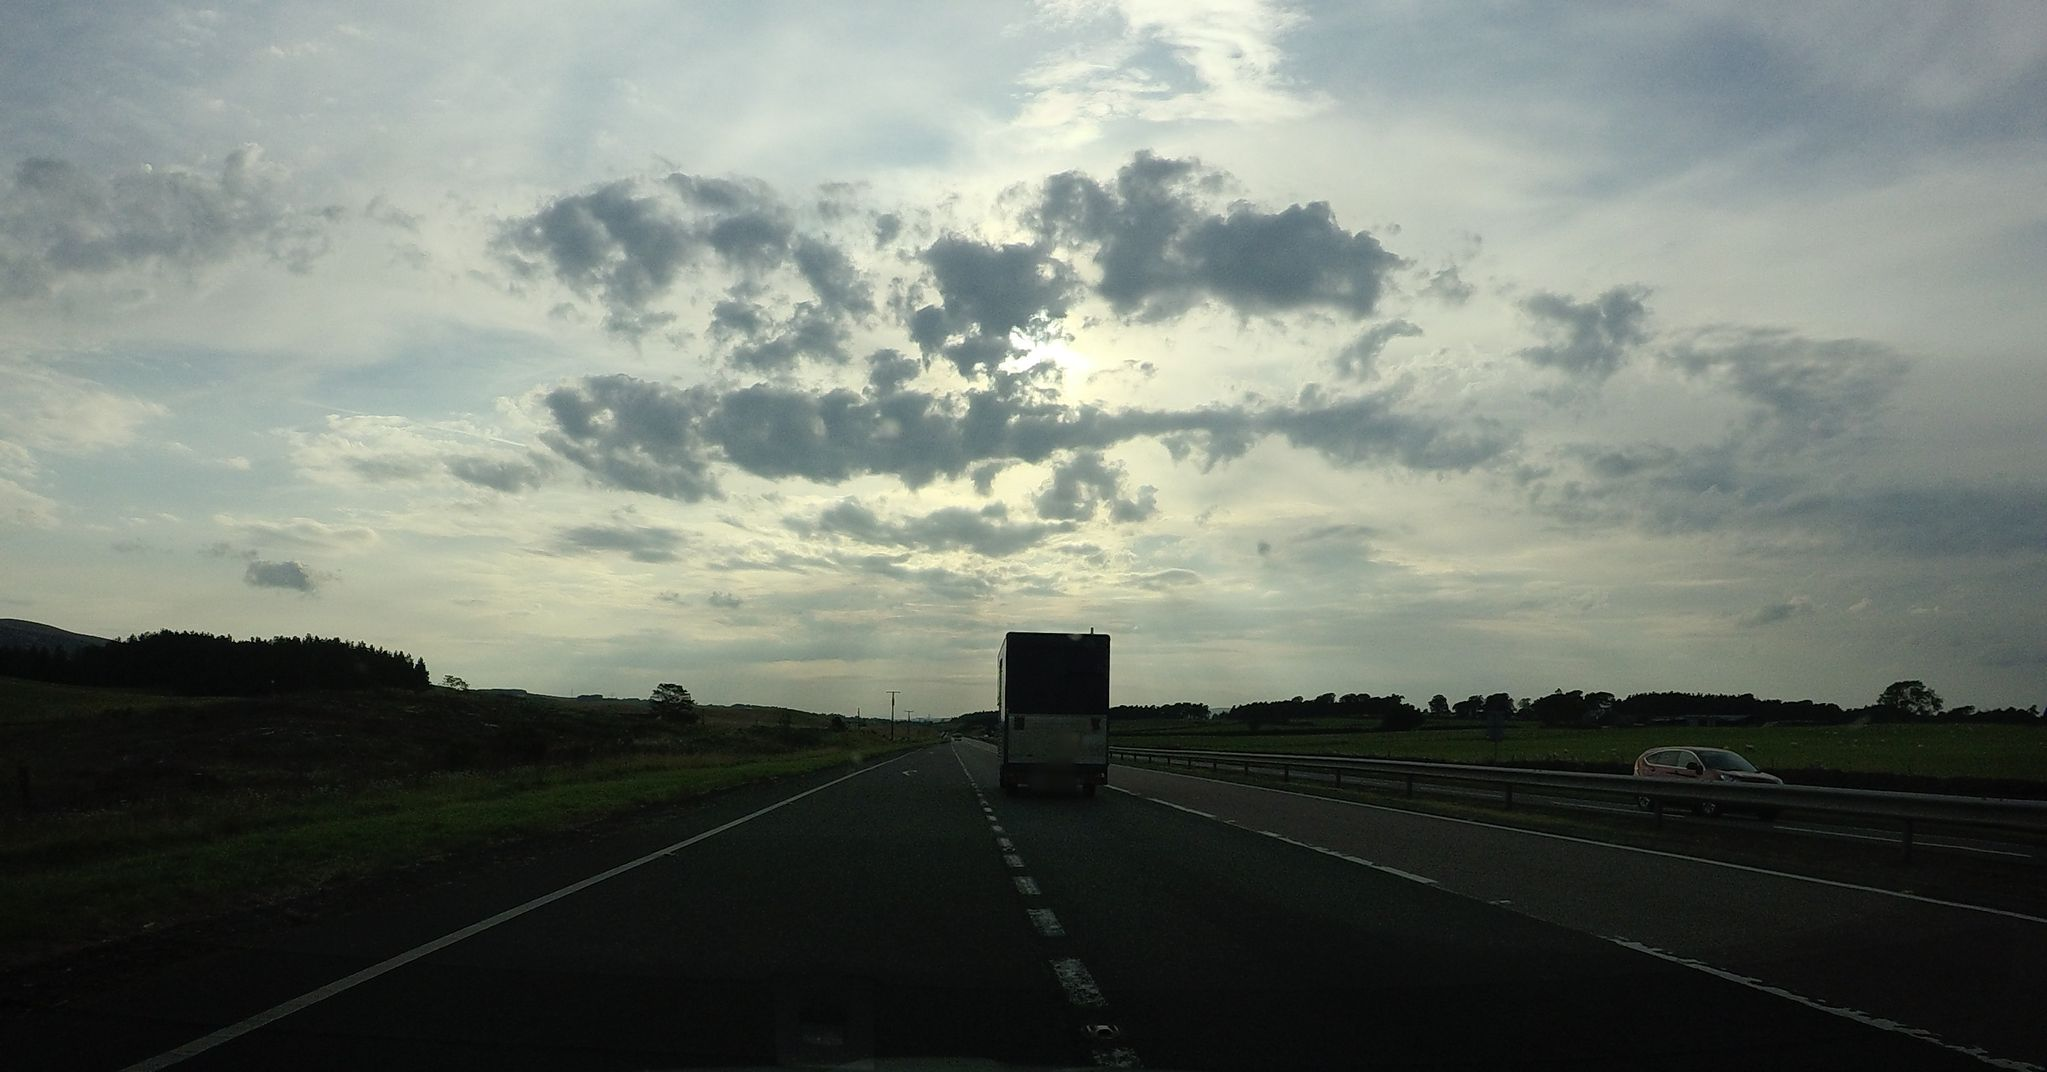car: (1631, 744, 1783, 822)
truck: (992, 628, 1111, 797)
